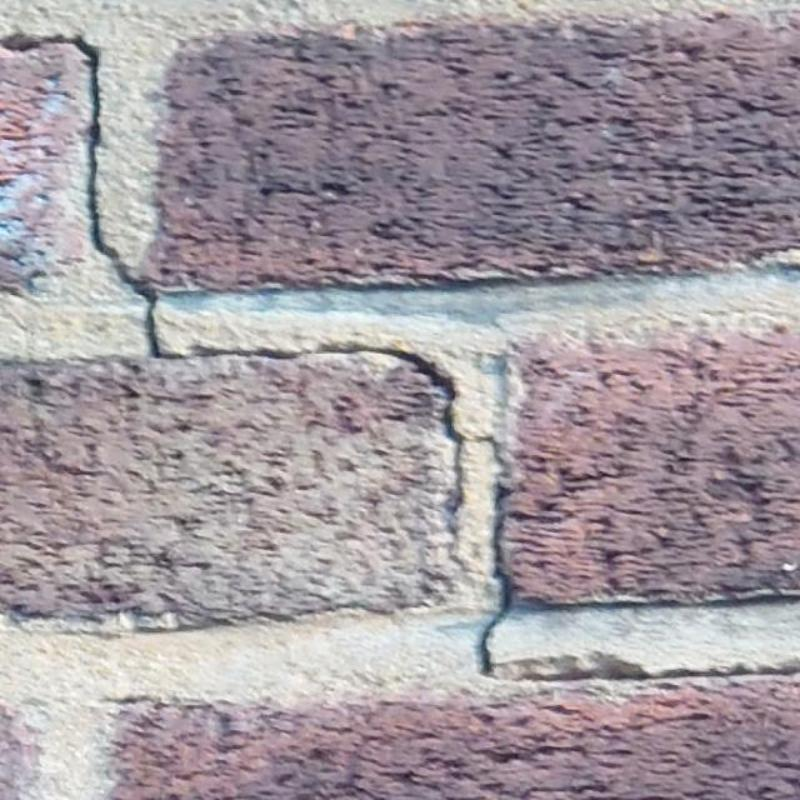pothole: (0, 33, 162, 356), (194, 344, 461, 473), (489, 652, 800, 680), (476, 441, 511, 675)
